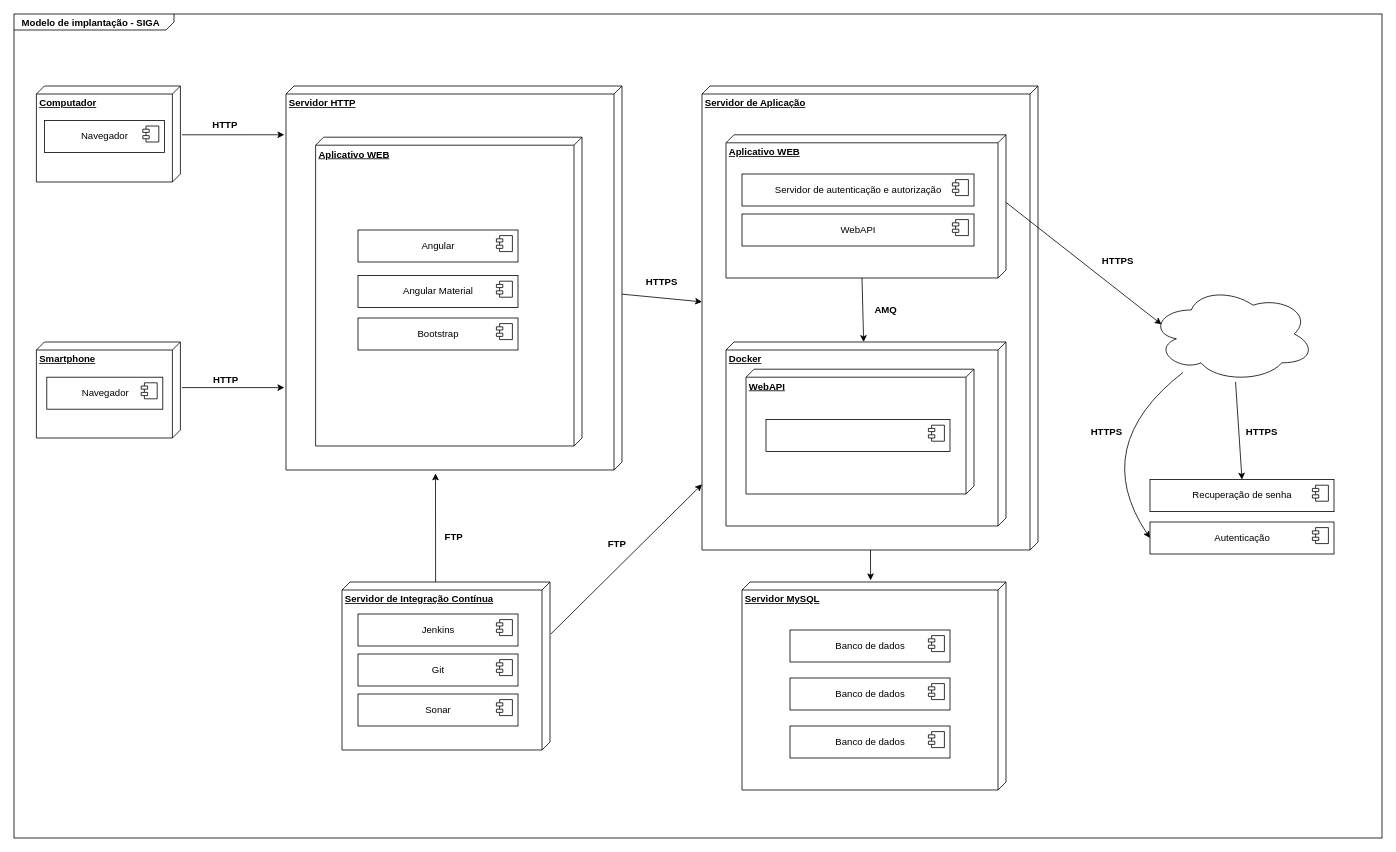
Some shapes in this 1396 by 852 pixel diagram are drawn without their labels. The shapes that lost their labels are listed below. From the top down, each one's centre as x and y in pixels, then its label:
pixel 1232 333: Internet
pixel 857 435: RabbitMQ
